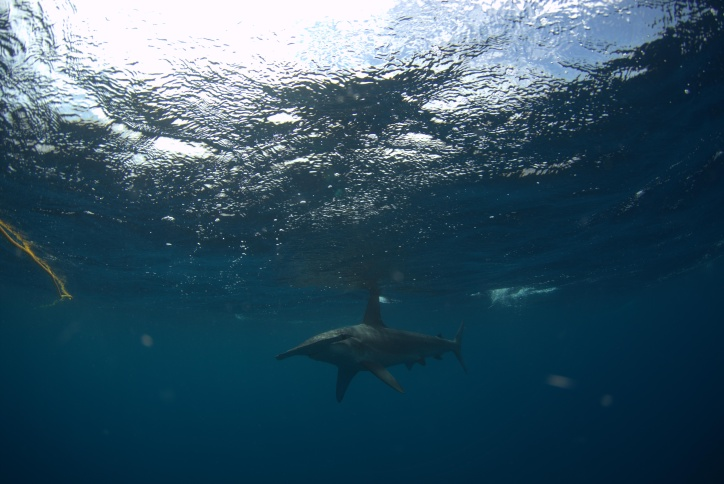Hammer: (252, 275, 492, 413)
